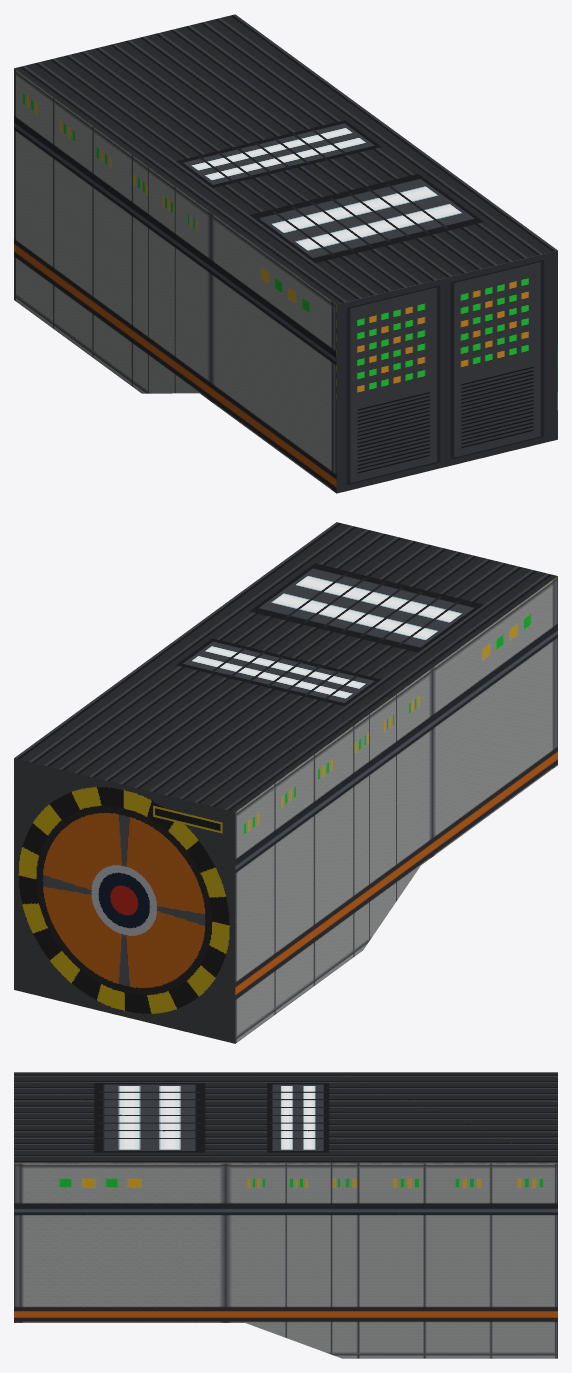
File: Ship Interior.fbx
The picture shows the model from 3 angles, top to bottom: view 1: azimuth 30°, elevation 25°; view 2: azimuth 150°, elevation 25°; view 3: azimuth 270°, elevation 25°; orthographic projection. The views are drawn at different scales.
Parts seen in each view (by area): view 1: Floor; view 2: Floor; view 3: Floor.
Part boxes in pixels (left/top/right/bottom): Floor: left=14, top=14, right=557, bottom=493; Floor: left=14, top=522, right=557, bottom=1043; Floor: left=14, top=1072, right=557, bottom=1358.
Size of the model in its own units: 3.25 by 3.25 by 8.19.
